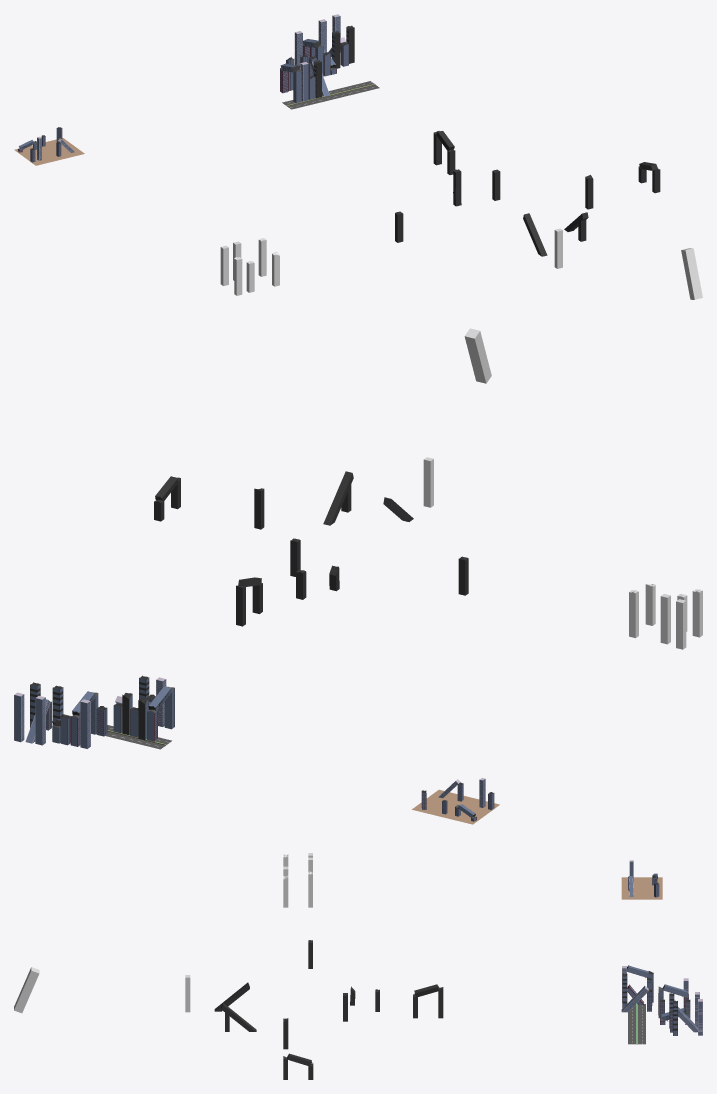
The model's file is MapDesign.fbx.
The picture shows the model from 3 angles, top to bottom: view 1: azimuth 30°, elevation 25°; view 2: azimuth 150°, elevation 25°; view 3: azimuth 270°, elevation 25°; orthographic projection. The views are drawn at different scales.
Parts seen in each view (by area): view 1: Plane.013, Plane.001, Cube.019, Plane.011, Plane.004, Plane.012; view 2: Plane.013, Plane.011, Plane.004, Cube.019, Plane.008, Plane.002, Plane.007; view 3: Plane.013, Plane.001, Cube.019.
Part boxes in pixels (box(x1,y1,x2,y2)): Plane.013: box(14, 127, 84, 165); Plane.001: box(282, 81, 379, 109); Cube.019: box(681, 248, 702, 299); Plane.011: box(280, 63, 301, 103); Plane.004: box(318, 19, 340, 68); Plane.012: box(286, 57, 308, 101); Plane.013: box(412, 778, 499, 824); Plane.011: box(147, 686, 174, 741); Plane.004: box(35, 685, 63, 745); Cube.019: box(464, 328, 491, 383); Plane.008: box(80, 699, 107, 748); Plane.002: box(14, 682, 40, 742); Plane.007: box(70, 691, 98, 746); Plane.013: box(621, 860, 662, 899); Plane.001: box(628, 1003, 645, 1044); Cube.019: box(14, 967, 39, 1013).
Bounding box in the file's own units: 53261 × 8710 × 76982.
